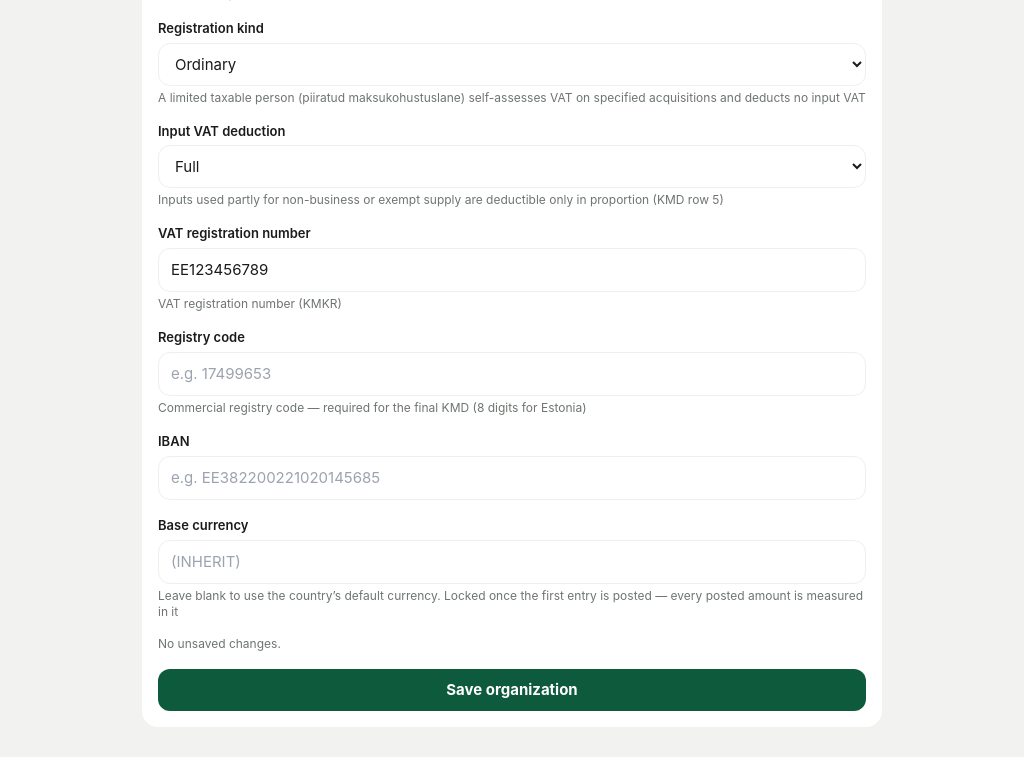
Test: OrganizationScreen › saves the normalized field set and toasts a receipt
(page scrolled)
In the field labelled "Registry code": (512, 374) [158,352,866,396], type " 17499653 "
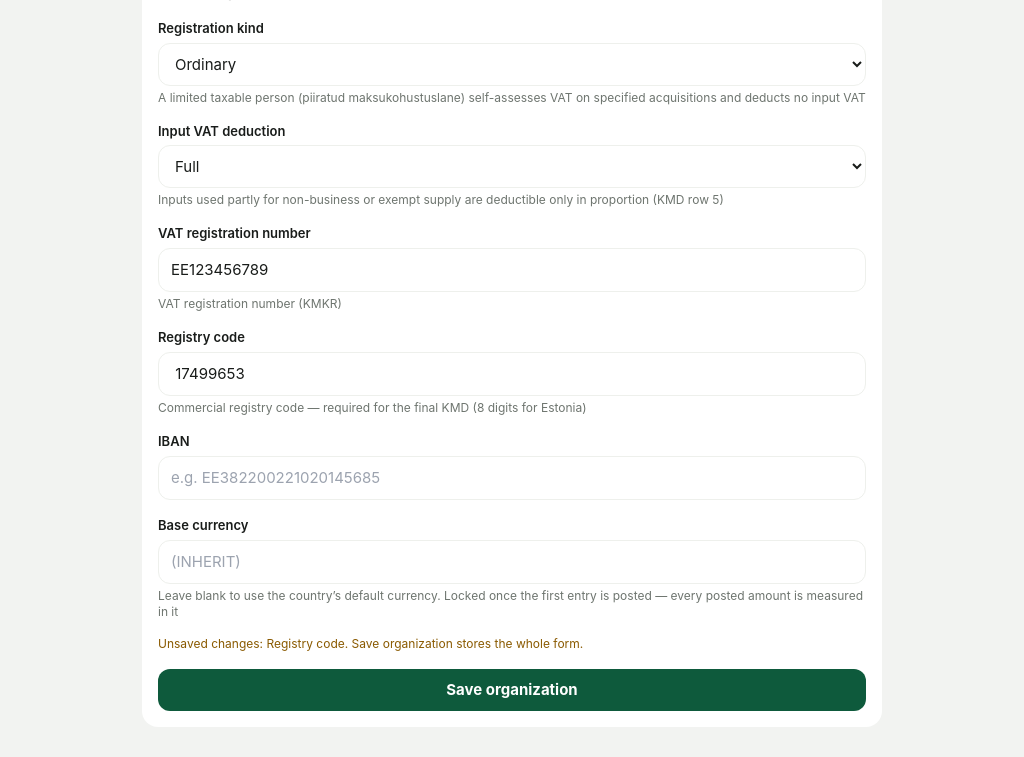
In the field labelled "IBAN": (512, 478) [158,456,866,500], type "  EE382200221020145685  "
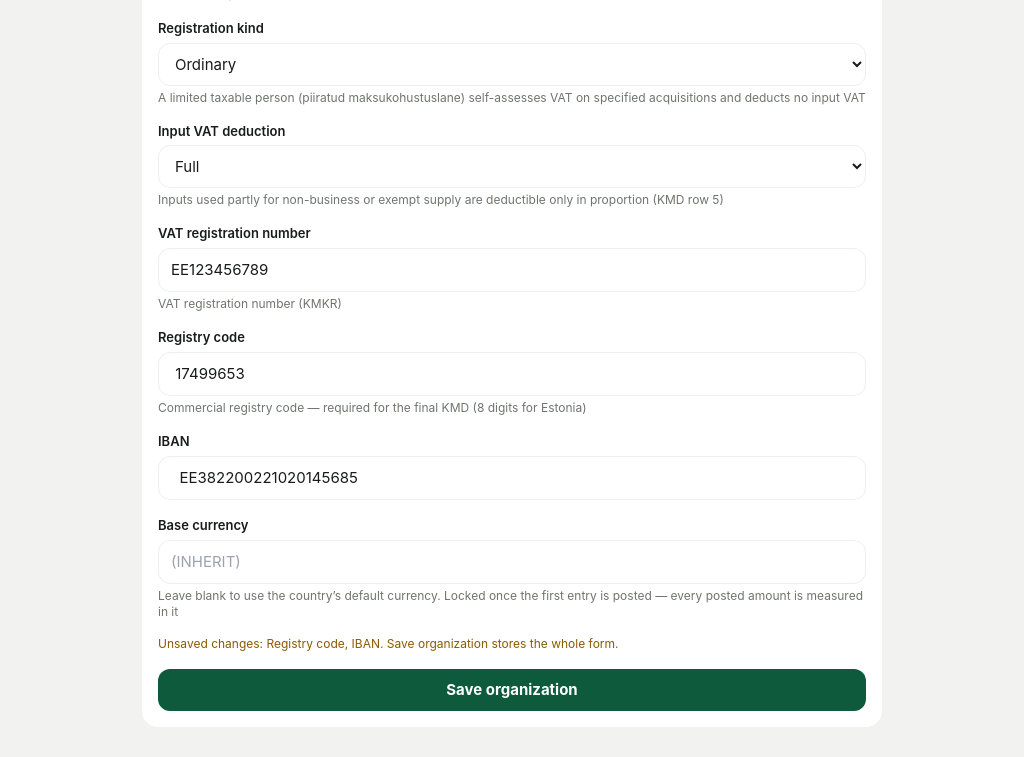
Click the button "Save organization": (512, 690) [158,668,866,711]
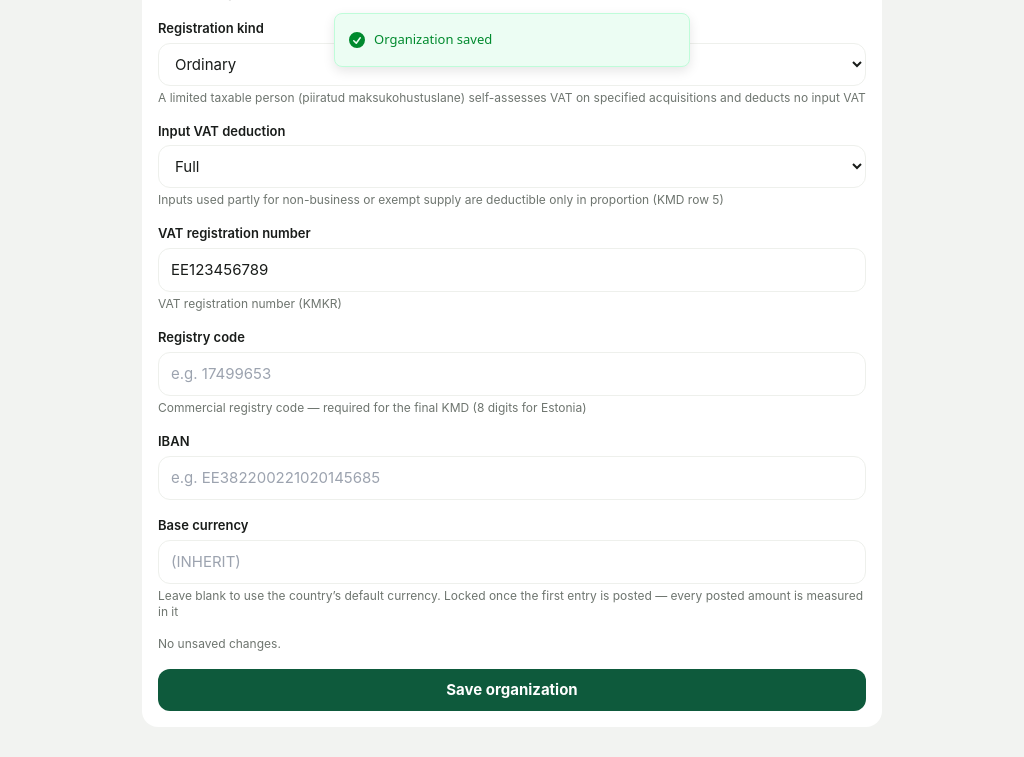
expect the text "Organization saved" is shown: met, box [374,30,492,50]
